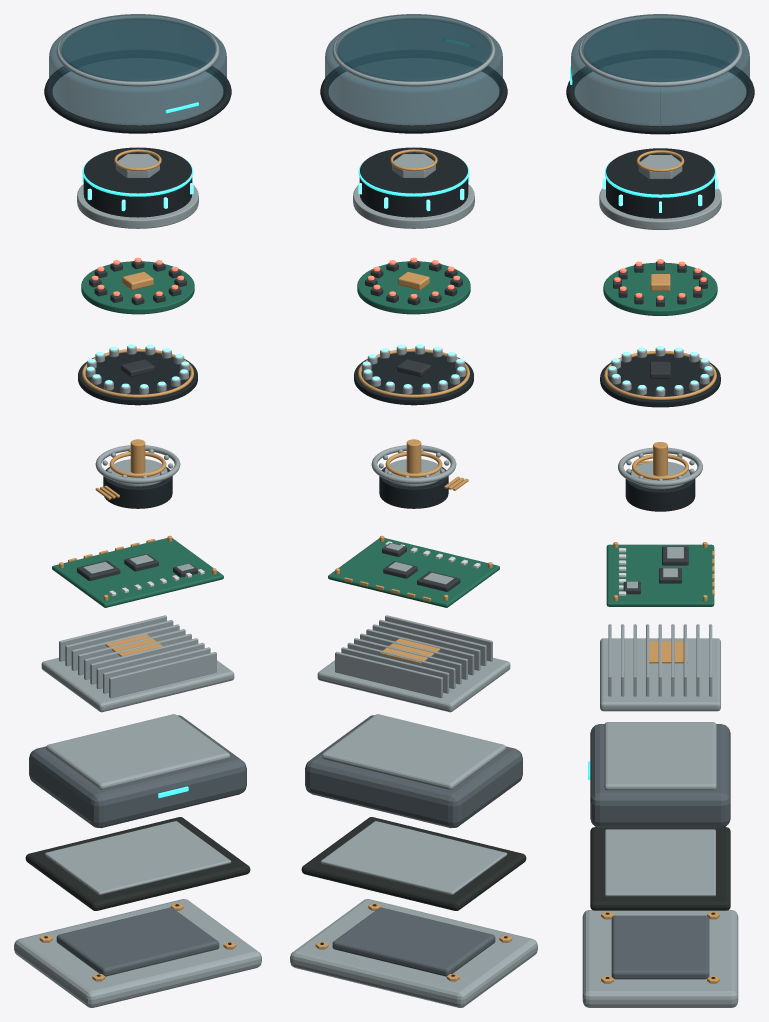
Rendered from lidar-exploded.glb.
3 renders of one model, left to right at view 1: azimuth 30°, elevation 25°; view 2: azimuth 150°, elevation 25°; view 3: azimuth 270°, elevation 25°, orthographic.
Parts seen in each view (by area): view 1: 烟熏透明圆筒防护罩 · exploded, CNC 铝合金安装脚 · exploded, 压铸铝下壳主体 · exploded, 顶部耐磨光学圆盖 · exploded, 底壳内腔台阶 · exploded, 内侧密封唇 · exploded, 中部减重桥 · exploded, 六层主控 PCB · exploded, 旋转头黑色光学筒 · exploded, 闭孔氟橡胶减振垫 · exploded, 接收器载板 · exploded, 激光器载板 · exploded (+19 smaller); view 2: 烟熏透明圆筒防护罩 · exploded, CNC 铝合金安装脚 · exploded, 压铸铝下壳主体 · exploded, 顶部耐磨光学圆盖 · exploded, 底壳内腔台阶 · exploded, 内侧密封唇 · exploded, 中部减重桥 · exploded, 六层主控 PCB · exploded, 旋转头黑色光学筒 · exploded, 闭孔氟橡胶减振垫 · exploded, 接收器载板 · exploded, 激光器载板 · exploded (+19 smaller); view 3: 烟熏透明圆筒防护罩 · exploded, CNC 铝合金安装脚 · exploded, 顶部耐磨光学圆盖 · exploded, 底壳内腔台阶 · exploded, 内侧密封唇 · exploded, 压铸铝下壳主体 · exploded, 均热板 · exploded, 中部减重桥 · exploded, 六层主控 PCB · exploded, 旋转头黑色光学筒 · exploded, 闭孔氟橡胶减振垫 · exploded, 激光器载板 · exploded (+13 smaller).
Part boxes in pixels (x1=…): 烟熏透明圆筒防护罩 · exploded: x1=49, y1=19, x2=226, y2=125; CNC 铝合金安装脚 · exploded: x1=14, y1=899, x2=261, y2=1007; 压铸铝下壳主体 · exploded: x1=29, y1=715, x2=246, y2=828; 顶部耐磨光学圆盖 · exploded: x1=59, y1=14, x2=216, y2=81; 底壳内腔台阶 · exploded: x1=45, y1=714, x2=230, y2=789; 内侧密封唇 · exploded: x1=44, y1=821, x2=231, y2=894; 中部减重桥 · exploded: x1=56, y1=907, x2=219, y2=976; 六层主控 PCB · exploded: x1=52, y1=538, x2=223, y2=607; 旋转头黑色光学筒 · exploded: x1=83, y1=147, x2=192, y2=217; 闭孔氟橡胶减振垫 · exploded: x1=25, y1=817, x2=250, y2=910; 接收器载板 · exploded: x1=78, y1=352, x2=197, y2=405; 激光器载板 · exploded: x1=81, y1=261, x2=194, y2=314; 烟熏透明圆筒防护罩 · exploded: x1=325, y1=19, x2=502, y2=125; CNC 铝合金安装脚 · exploded: x1=290, y1=899, x2=537, y2=1007; 压铸铝下壳主体 · exploded: x1=305, y1=715, x2=522, y2=828; 顶部耐磨光学圆盖 · exploded: x1=335, y1=14, x2=492, y2=81; 底壳内腔台阶 · exploded: x1=321, y1=714, x2=506, y2=789; 内侧密封唇 · exploded: x1=320, y1=821, x2=507, y2=894; 中部减重桥 · exploded: x1=332, y1=907, x2=495, y2=976; 六层主控 PCB · exploded: x1=328, y1=538, x2=499, y2=607; 旋转头黑色光学筒 · exploded: x1=359, y1=147, x2=468, y2=217; 闭孔氟橡胶减振垫 · exploded: x1=301, y1=817, x2=526, y2=910; 接收器载板 · exploded: x1=354, y1=352, x2=473, y2=405; 激光器载板 · exploded: x1=357, y1=261, x2=470, y2=314; 烟熏透明圆筒防护罩 · exploded: x1=571, y1=19, x2=749, y2=126; CNC 铝合金安装脚 · exploded: x1=582, y1=910, x2=738, y2=1007; 顶部耐磨光学圆盖 · exploded: x1=581, y1=14, x2=739, y2=82; 底壳内腔台阶 · exploded: x1=604, y1=722, x2=716, y2=790; 内侧密封唇 · exploded: x1=605, y1=829, x2=715, y2=896; 压铸铝下壳主体 · exploded: x1=590, y1=724, x2=730, y2=827; 均热板 · exploded: x1=600, y1=638, x2=720, y2=711; 中部减重桥 · exploded: x1=611, y1=915, x2=709, y2=979; 六层主控 PCB · exploded: x1=606, y1=544, x2=714, y2=606; 旋转头黑色光学筒 · exploded: x1=606, y1=148, x2=714, y2=218; 闭孔氟橡胶减振垫 · exploded: x1=590, y1=827, x2=730, y2=910; 激光器载板 · exploded: x1=603, y1=262, x2=717, y2=315.
Bounding box in the file's own units: 0.246 × 1.23 × 0.228.
